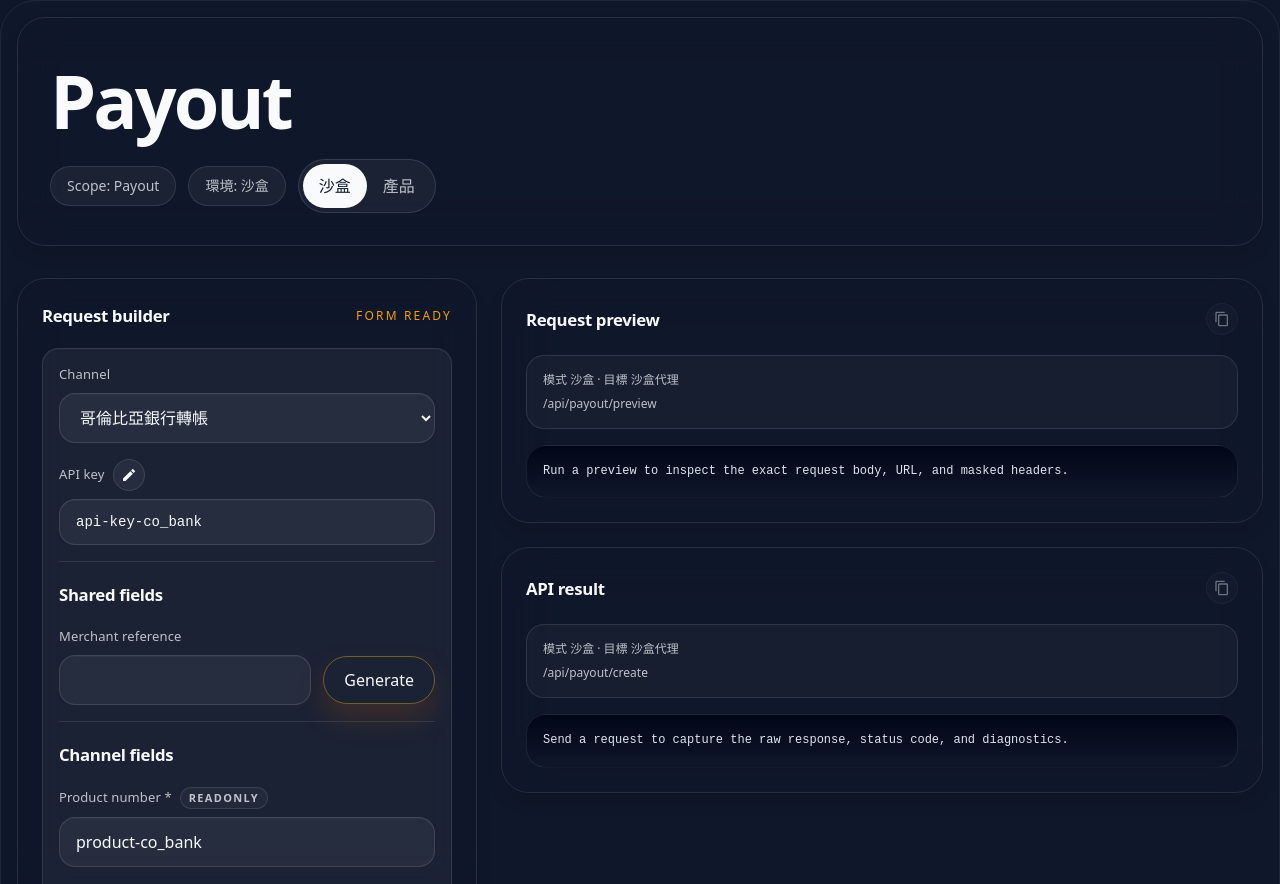
Test: PayoutPage › resets the api key to the backend default when the environment changes
The image size is (1280, 884).
Expected: the button "Generate" is enabled, x1=323 y1=656 x2=435 y2=704
Click the button named "Edit API key". click: {"x": 128, "y": 475}
box: x1=112 y1=459 x2=144 y2=491
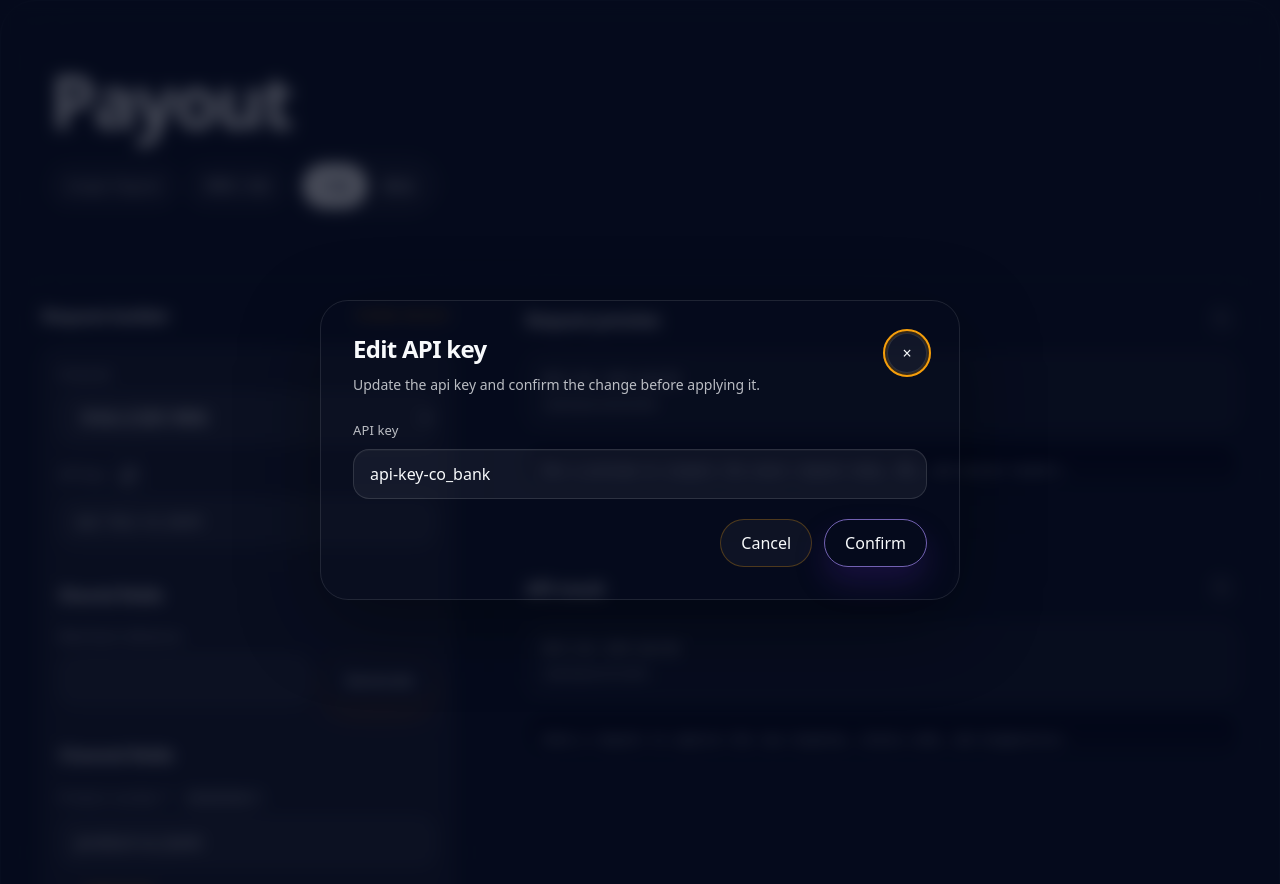
Result: the dialog is shown at x1=320 y1=300 x2=960 y2=600
Replace the text in the field labelled "API key" with "typed-payout-key". click: {"x": 640, "y": 474}
box: x1=353 y1=449 x2=927 y2=499
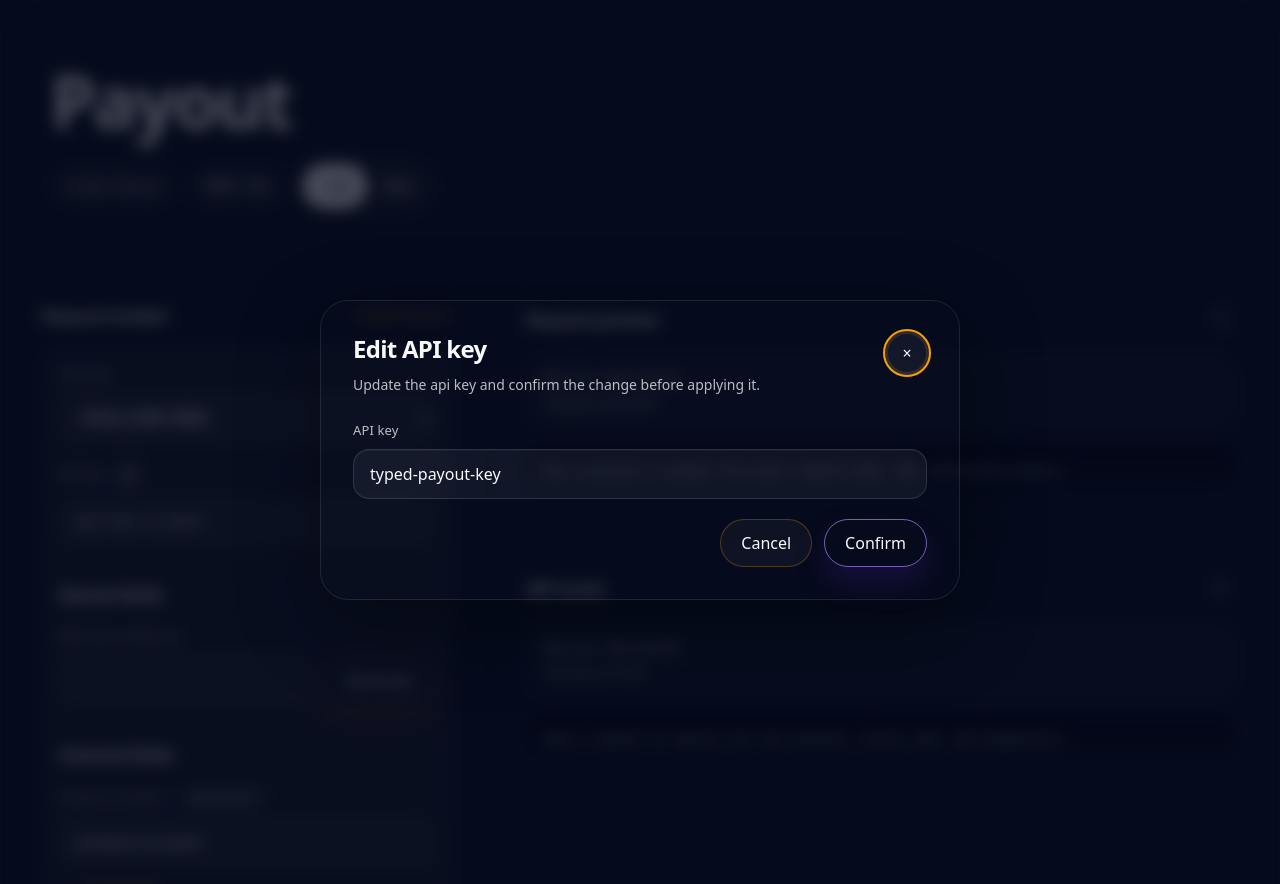
Click the button "Confirm". click: {"x": 876, "y": 543}
box: x1=824 y1=519 x2=927 y2=567
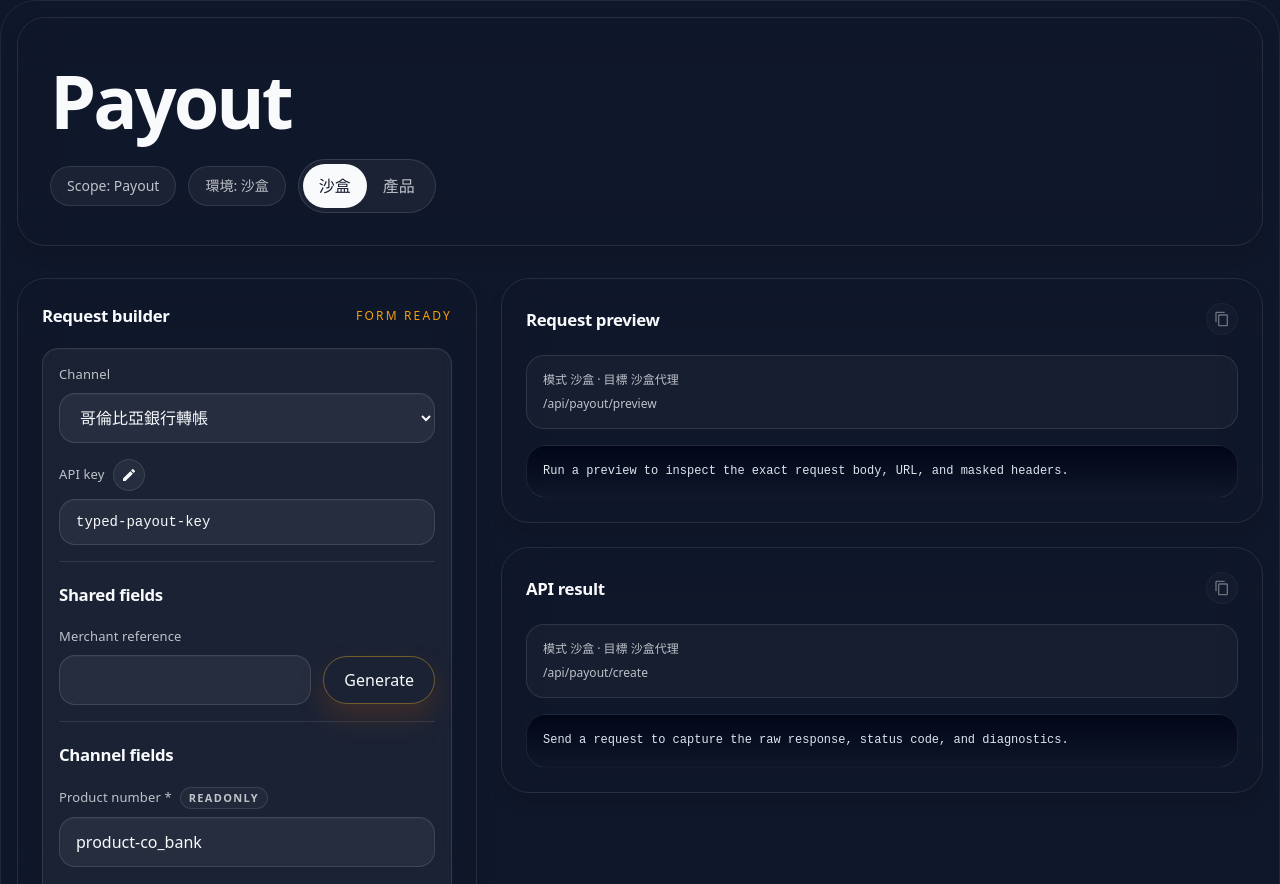
Click the button "產品". click: {"x": 399, "y": 186}
box: x1=367 y1=164 x2=431 y2=208
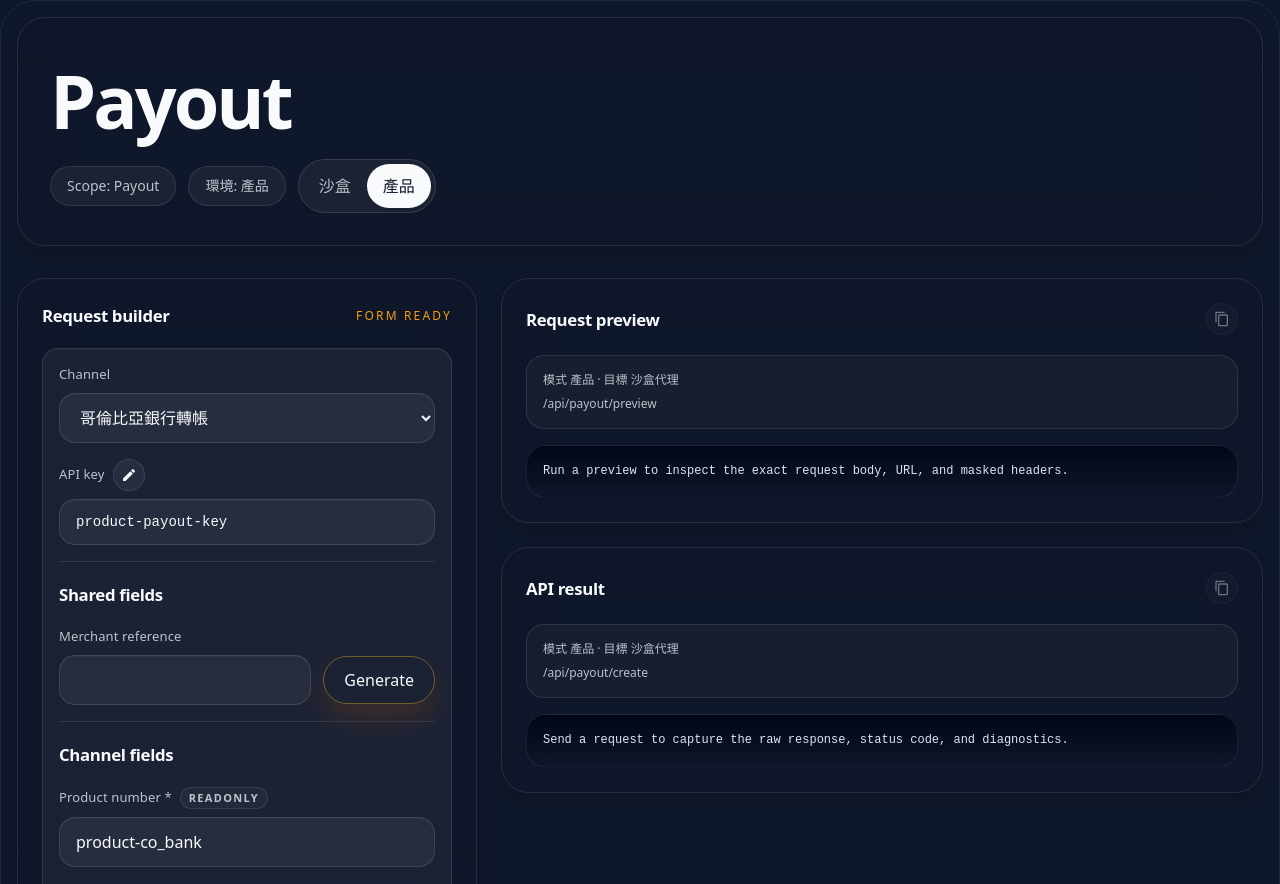
Result: the text "product-payout-key" is shown at x1=76 y1=514 x2=227 y2=530
